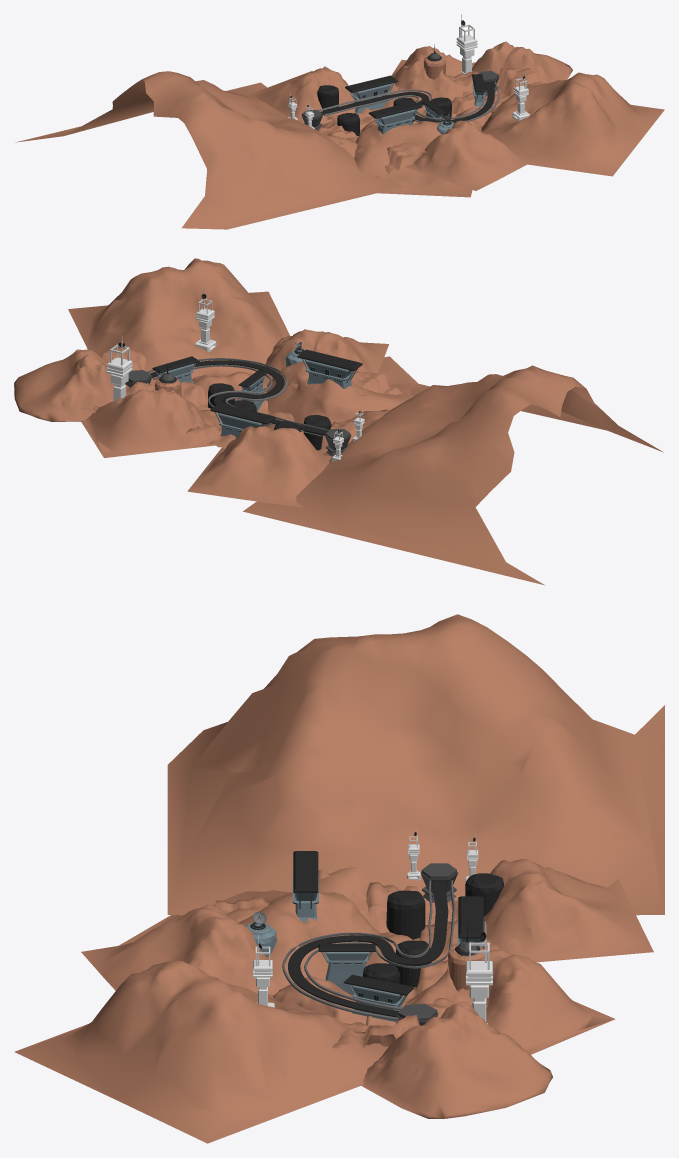
Rendered from map4.fbx.
3 renders of one model, top to bottom at view 1: azimuth 30°, elevation 25°; view 2: azimuth 150°, elevation 25°; view 3: azimuth 270°, elevation 25°, orthographic. The views are drawn at different scales.
Parts seen in each view (by area): view 1: Landscape.005, Landscape.002, Landscape.003, Landscape.004, Bounds, Landscape.006, Landscape.007, Landscape.008, Path, Building.001, Building.002, tower.003 (+7 smaller); view 2: Landscape.005, Landscape.002, Landscape.006, Landscape.007, Landscape.008, Landscape.004, Bounds, Landscape.003, Building.002, Path, Building.001, tower.003 (+6 smaller); view 3: Landscape.005, Landscape.002, Landscape.008, Landscape.006, Landscape.007, Landscape.003, Landscape.004, Bounds, Path, Building.002, Building.003, Landscape.009 (+12 smaller).
Boxes of the visible parts, x1,y1,x2,y2 form: Landscape.005: [15, 71, 402, 229]; Landscape.002: [481, 72, 664, 176]; Landscape.003: [405, 120, 526, 190]; Landscape.004: [354, 121, 472, 197]; Bounds: [317, 62, 542, 177]; Landscape.006: [247, 66, 354, 124]; Landscape.007: [391, 46, 473, 100]; Landscape.008: [472, 41, 572, 83]; Path: [320, 83, 494, 122]; Building.001: [345, 75, 398, 113]; Building.002: [368, 101, 421, 134]; tower.003: [456, 14, 477, 73]; Landscape.005: [243, 365, 663, 585]; Landscape.002: [68, 258, 289, 381]; Landscape.006: [187, 426, 331, 508]; Landscape.007: [81, 388, 215, 457]; Landscape.008: [14, 349, 114, 421]; Landscape.004: [264, 356, 417, 425]; Bounds: [80, 348, 413, 448]; Landscape.003: [262, 329, 388, 388]; Building.002: [297, 349, 362, 388]; Path: [150, 360, 327, 435]; Building.001: [210, 403, 275, 437]; tower.003: [106, 336, 132, 401]; Landscape.005: [167, 614, 664, 916]; Landscape.002: [14, 960, 388, 1143]; Landscape.008: [361, 1001, 552, 1118]; Landscape.006: [448, 859, 653, 962]; Landscape.007: [405, 947, 615, 1054]; Landscape.003: [81, 904, 288, 994]; Landscape.004: [119, 890, 419, 984]; Bounds: [215, 869, 514, 1048]; Path: [288, 881, 448, 1017]; Building.002: [292, 851, 318, 922]; Building.003: [318, 944, 375, 993]; Landscape.009: [319, 867, 450, 932].
Bounding box in the file's own units: 16818 × 3340 × 10451.
